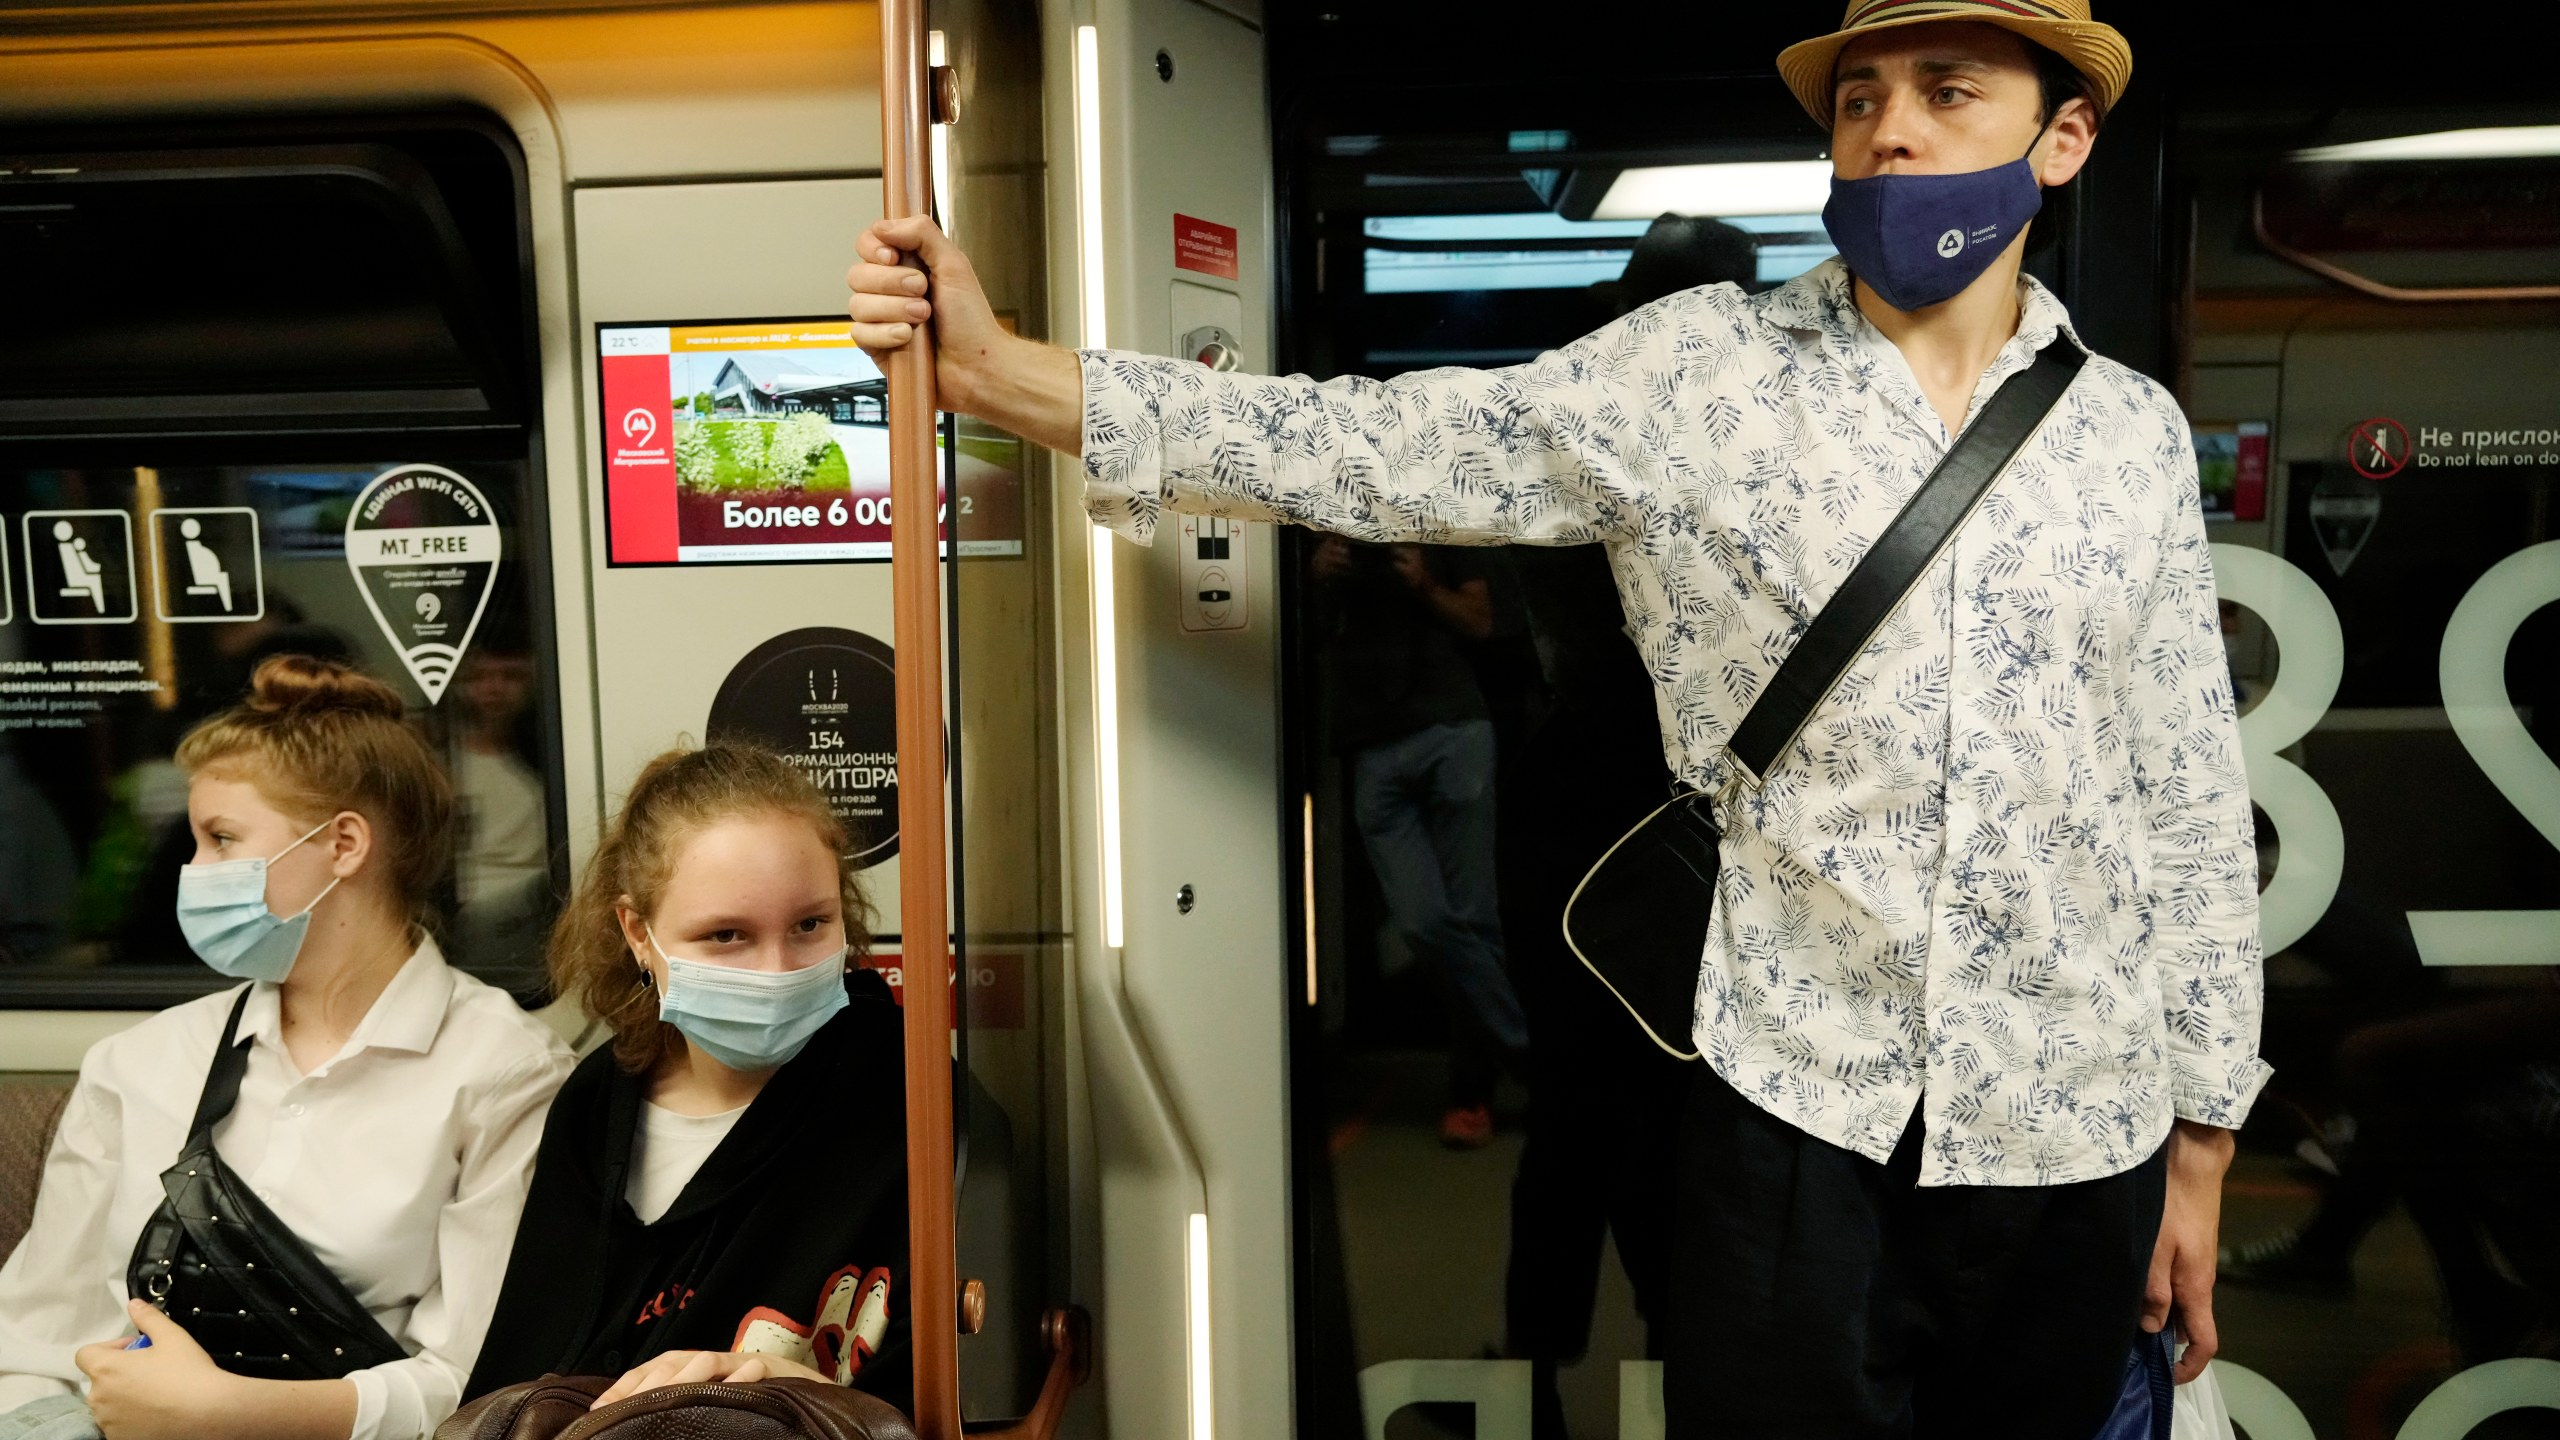with_mask: (671, 868, 825, 1033), (182, 789, 312, 984)
without_mask: (1841, 68, 2015, 276)
